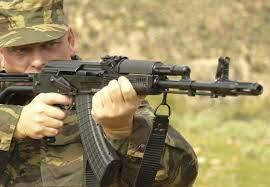larga: (0, 54, 264, 187)
